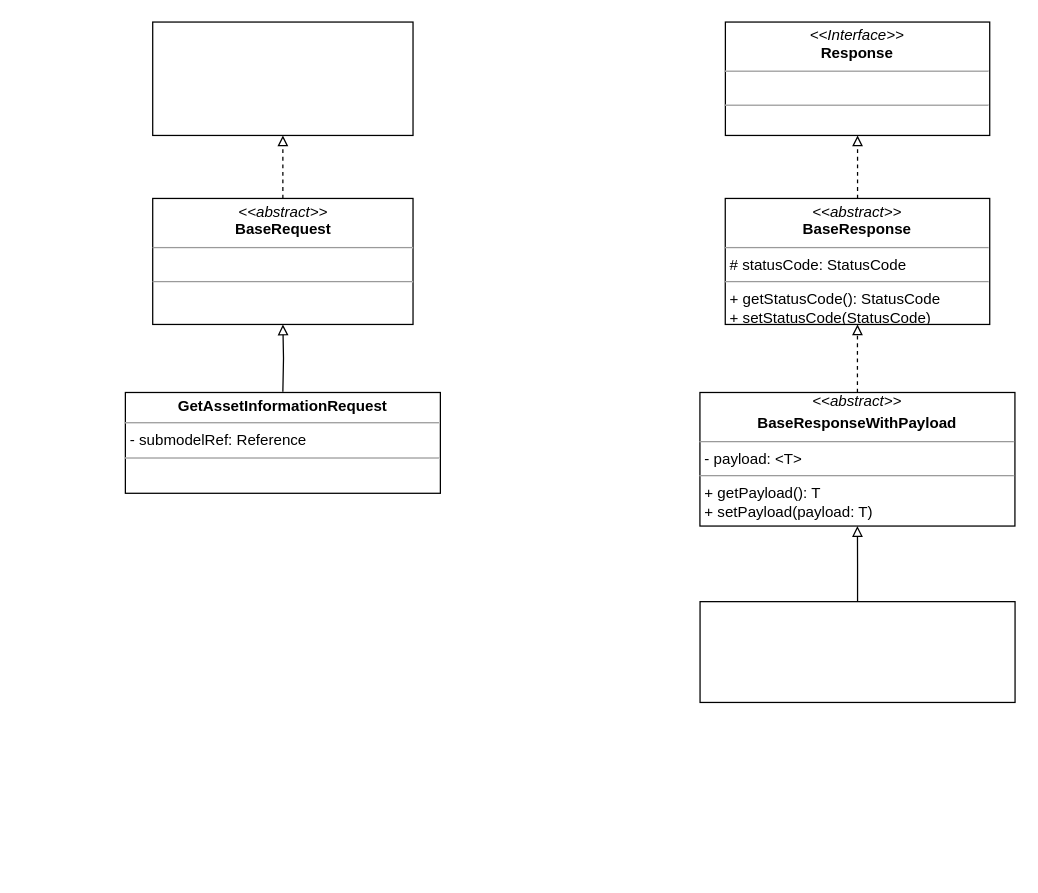
Image size: 1038x893. Some labels were removed from this diagram. The shapes that lost their labels are listed below. From the top down, each one's centre as x and y in pixels, then its label:
(x=282, y=78): <<Interface>> Request
(x=857, y=651): GetAssetInformationResponse - payload: AssetInformation
